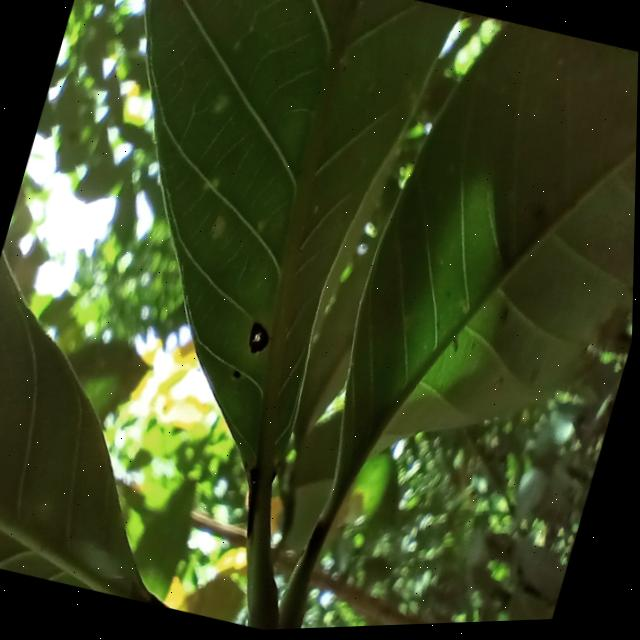Colletotrichum: (246, 321, 275, 357)
